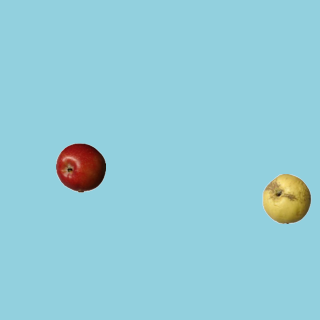Apple Braeburn: (55, 142, 105, 192)
Apple Golden 1: (261, 173, 311, 223)
